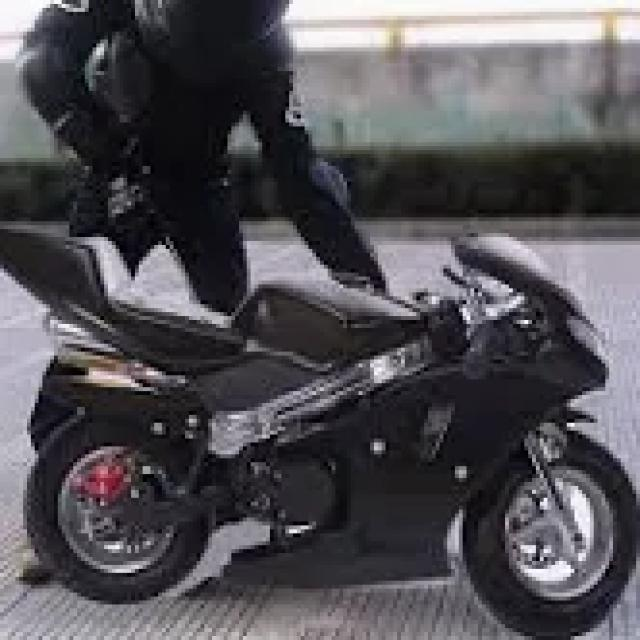motorcycle: (0, 217, 636, 636)
